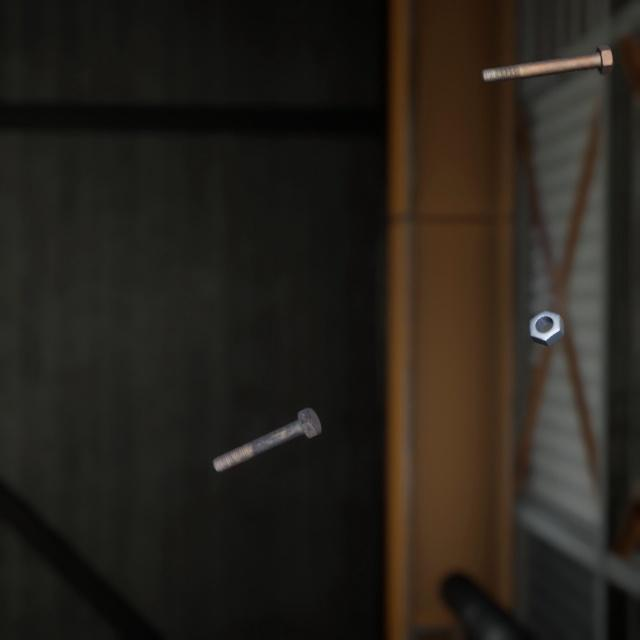bolt: (208, 381, 326, 456), (476, 30, 617, 77)
nut: (525, 287, 568, 332)
